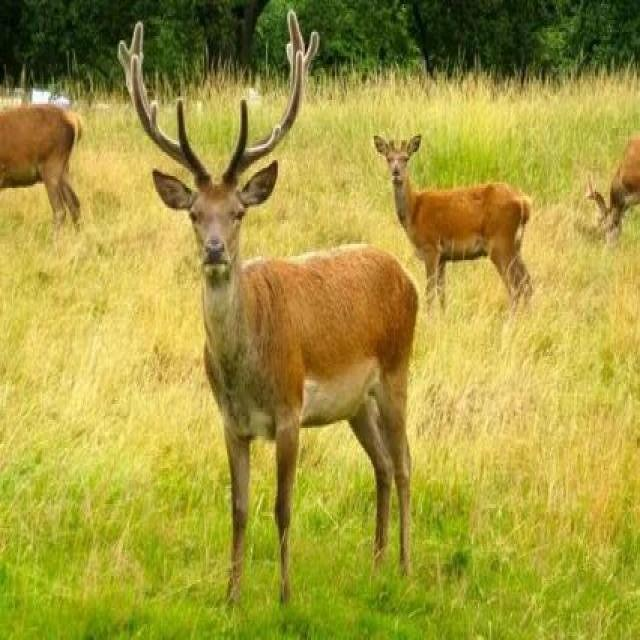deer: (154, 133, 412, 507), (374, 138, 540, 289)
